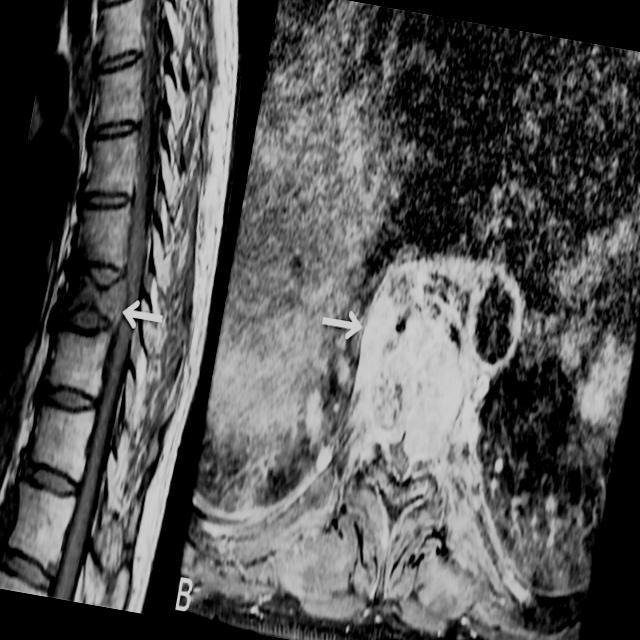Compression-Crush Fracutre: (61, 259, 121, 338)
